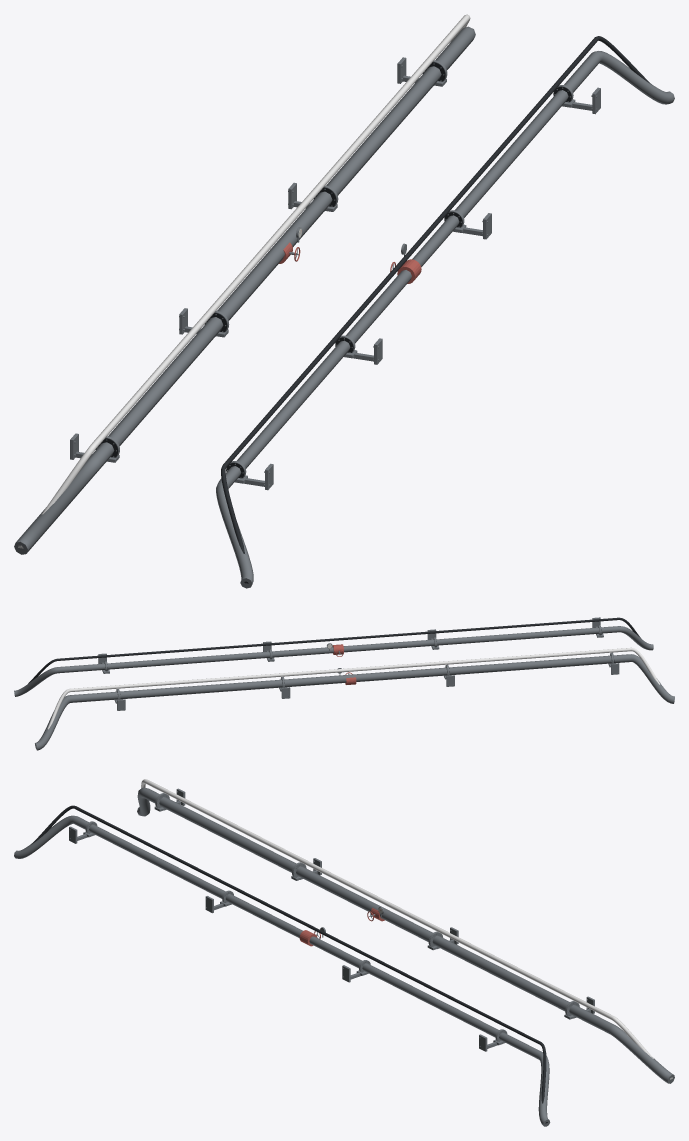
File: BD_T11_UpperProcessLines.fbx
The picture shows the model from 3 angles, top to bottom: view 1: azimuth 30°, elevation 25°; view 2: azimuth 150°, elevation 25°; view 3: azimuth 270°, elevation 25°; orthographic projection. The views are drawn at different scales.
Visible parts, largest first — view 1: BD_T11_UpperProcessLines; view 2: BD_T11_UpperProcessLines; view 3: BD_T11_UpperProcessLines.
Part boxes in pixels (bbox=[...]): BD_T11_UpperProcessLines: bbox=[14, 14, 674, 588]; BD_T11_UpperProcessLines: bbox=[14, 617, 674, 750]; BD_T11_UpperProcessLines: bbox=[14, 779, 674, 1126].
Bounding box in the file's own units: 2093 × 189 × 1858.
